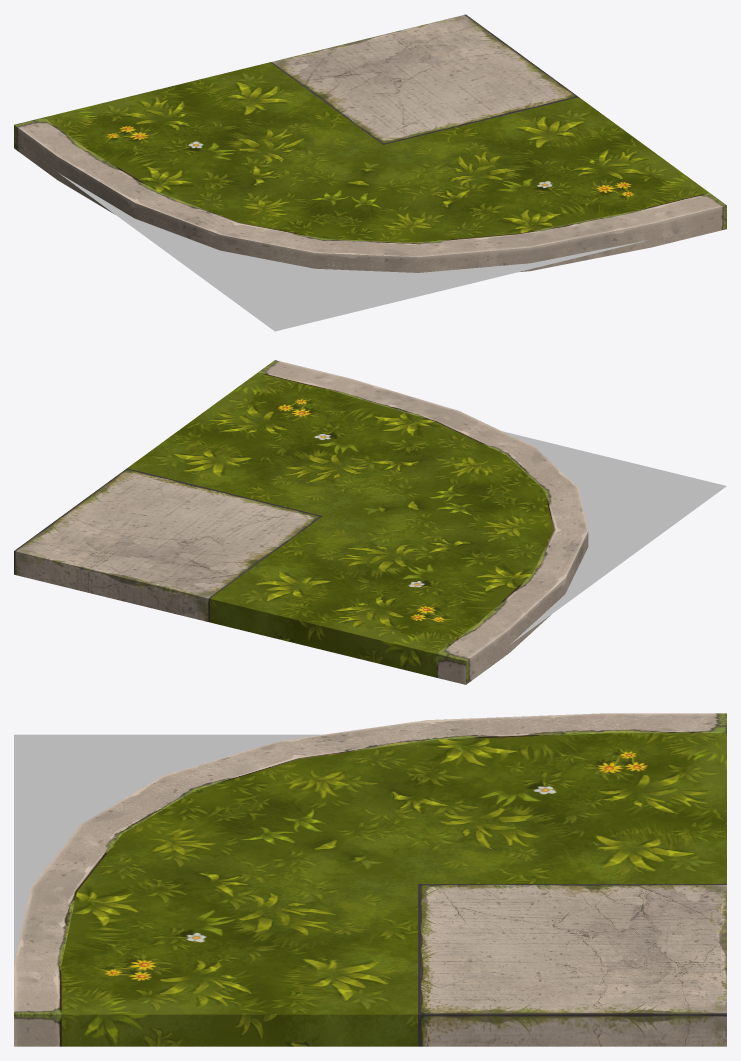
Rendered from sidewalk01_corner_A.fbx.
The picture shows the model from 3 angles, top to bottom: view 1: azimuth 30°, elevation 25°; view 2: azimuth 150°, elevation 25°; view 3: azimuth 270°, elevation 25°; orthographic projection. The views are drawn at different scales.
Visible parts, largest first — view 1: sidewalk01_corner_A; view 2: sidewalk01_corner_A; view 3: sidewalk01_corner_A.
Part boxes in pixels (<box>): sidewalk01_corner_A: <box>14,14,726,331</box>; sidewalk01_corner_A: <box>14,360,726,684</box>; sidewalk01_corner_A: <box>14,713,726,1046</box>.
Bounding box in the file's own units: 300 × 15 × 300.
